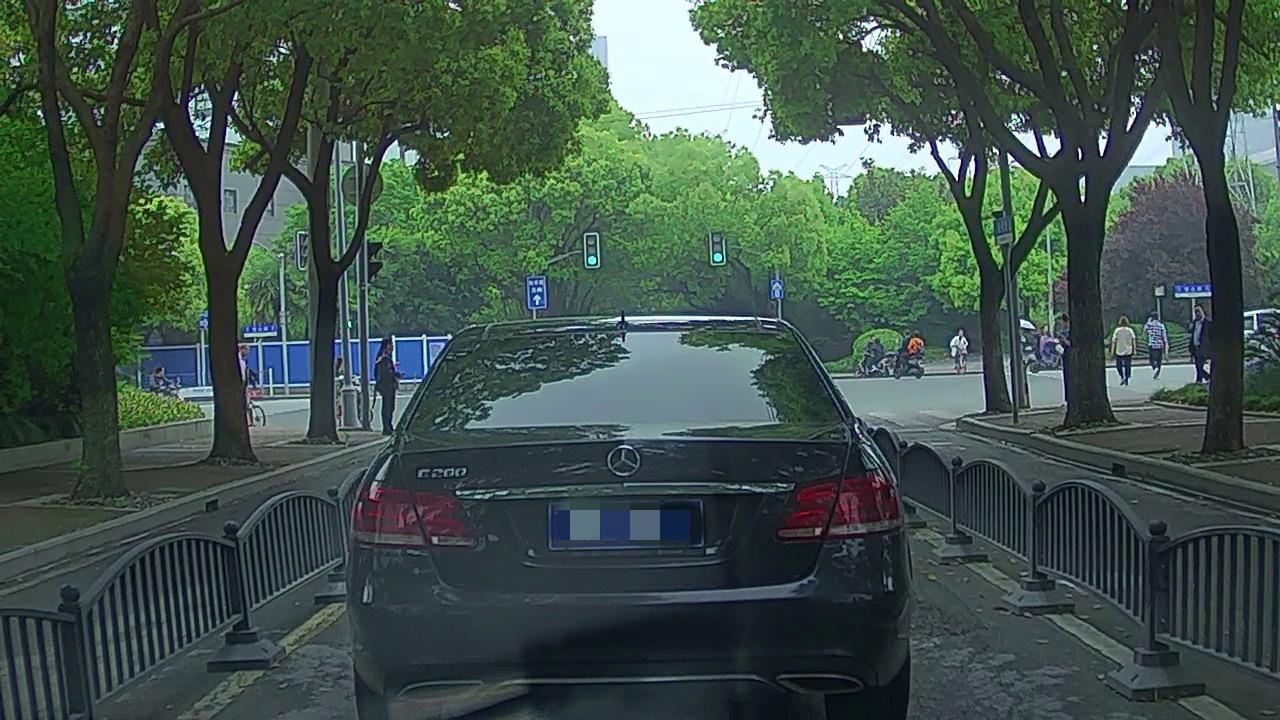traffic_light: (586, 235, 598, 268), (712, 232, 723, 264)
